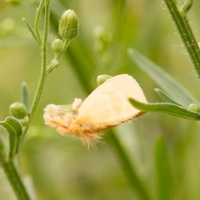insect: (43, 74, 146, 144)
